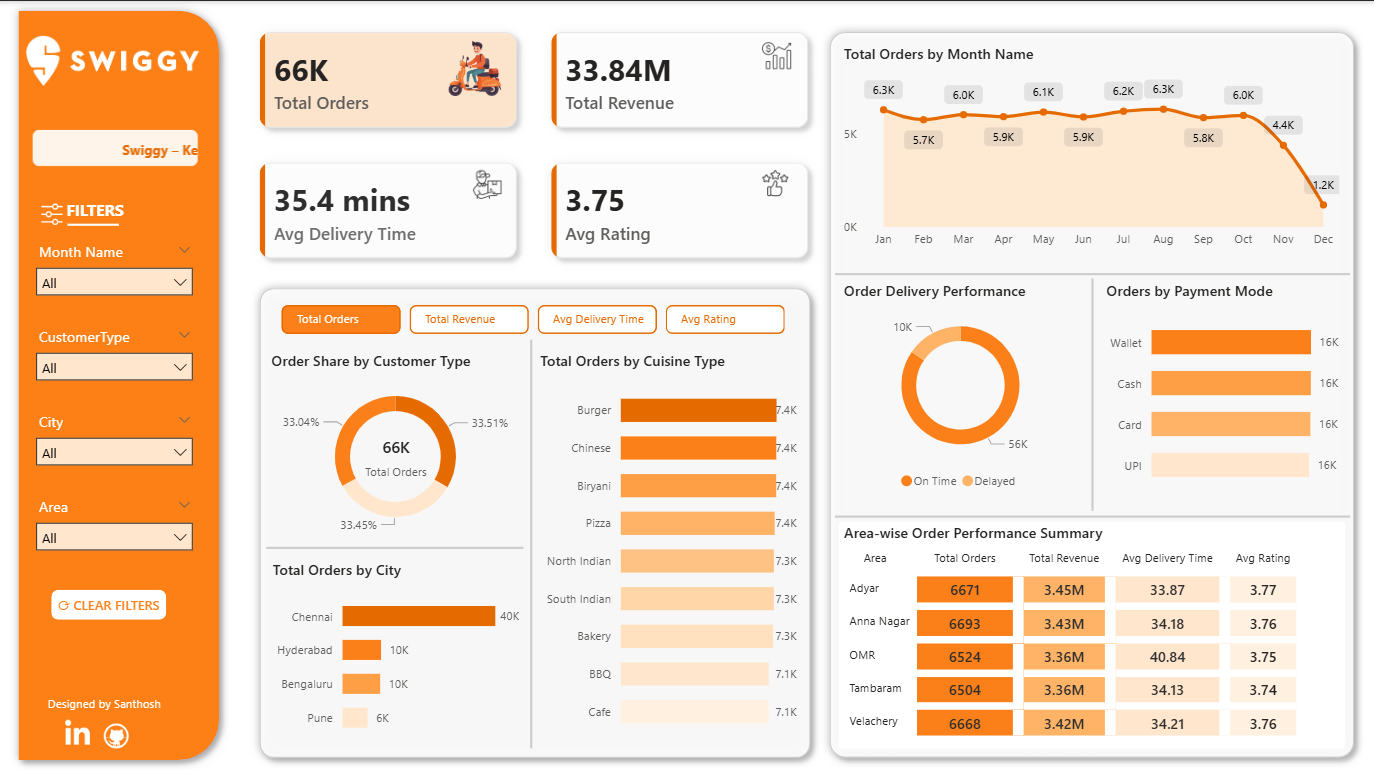

The dashboard page shown, as its layout file describes it:
{"tool":"powerbi","page":{"name":"Dashboard","canvas":[1280,720],"ordinal":0},"visuals":[{"type":"cardVisual","fields":{"Data":["measures_table.Total Orders","measures_table.Total Revenue","measures_table.Avg Delivery Time","measures_table.Avg Rating"]},"box":[212.8,0,569.8,269.8],"z":0},{"type":"shape","box":[8.1,0,204.7,715.1],"z":1000},{"type":"image","box":[24.4,22.1,160.5,67.4],"z":2000},{"type":"shape","box":[232.6,258.1,530.2,455],"z":3000},{"type":"shape","box":[762.8,19.8,505.8,693],"z":4000},{"type":"textbox","box":[39.5,638.4,143,46.5],"z":5000},{"type":"image","box":[60.5,668.6,23.3,23.3],"z":6000},{"type":"image","box":[96.5,672.1,23.3,23.3],"z":7000},{"type":"image","box":[408.1,37.2,67.4,51.2],"z":8000},{"type":"image","box":[700,37.2,45,27],"z":9000},{"type":"image","box":[698.8,155.8,45,27],"z":10000},{"type":"image","box":[430.2,157,45.3,27.9],"z":11000},{"type":"advancedSlicerVisual","fields":{"Values":["metrics.metrics"]},"box":[257,277.9,480.2,37.2],"z":12000},{"type":"donutChart","title":"Order Share by Customer Type","fields":{"Y":["measures_table.Total Orders"],"Category":["swiggy.CustomerType"]},"box":[247.7,325.6,240.7,179.1],"z":13000},{"type":"clusteredBarChart","fields":{"Y":["measures_table.Total Orders"],"Category":["swiggy.City"]},"box":[248.8,519.8,239.5,175.6],"z":14000},{"type":"shape","box":[447.7,315.1,93,380.2],"z":15000},{"type":"barChart","title":"Total Orders by Cuisine Type","fields":{"Y":["measures_table.Total Orders"],"Category":["swiggy.CuisineType"]},"box":[497.7,325.6,248.8,366.3],"z":16000},{"type":"shape","box":[247.7,493,239.5,31.4],"z":17000},{"type":"lineChart","fields":{"Y":["measures_table.Total Orders"],"Category":["swiggy.Month Name"]},"box":[780.2,39.5,470.9,198.8],"z":18000},{"type":"shape","box":[776.7,238.4,479.1,31.4],"z":19000},{"type":"donutChart","title":"Order Delivery Performance","fields":{"Y":["measures_table.Total Orders"],"Category":["swiggy.Delivery_Status"]},"box":[780.2,260.5,226.7,203.5],"z":20000},{"type":"shape","box":[969.8,258.1,93,216.3],"z":21000},{"type":"shape","box":[776.7,464,479.1,31.4],"z":22000},{"type":"clusteredBarChart","title":"Orders by Payment Mode","fields":{"Category":["swiggy.PaymentMode"],"Y":["measures_table.Total Orders"]},"box":[1024.4,260.5,226.7,204.7],"z":23000},{"type":"pivotTable","title":"Area-wise Order Performance Summary","fields":{"Values":["measures_table.Total Orders","measures_table.Total Revenue","measures_table.Avg Delivery Time","measures_table.Avg Rating"],"Rows":["swiggy.Area"]},"box":[780.2,484.9,470.9,210.5],"z":24000},{"type":"actionButton","box":[47.7,547.7,107,28],"z":25000},{"type":"slicer","title":"Quarter","fields":{"Values":["swiggy.CustomerType"]},"box":[23,297.7,166.3,79.1],"z":26000},{"type":"slicer","title":"Quarter","fields":{"Values":["swiggy.Month Name"]},"box":[23,218.6,166.3,79.1],"z":27000},{"type":"slicer","title":"City","fields":{"Values":["swiggy.City"]},"box":[23,376.7,166.3,79.1],"z":28000},{"type":"slicer","title":"Area","fields":{"Values":["swiggy.Area"]},"box":[23,455.8,166.3,79.1],"z":29000},{"type":"image","box":[38.4,188.4,19.8,19.8],"z":30000},{"type":"textbox","box":[57,179.1,88.4,41.9],"z":31000},{"type":"shape","box":[62.8,202.3,47.7,11.6],"z":32000},{"type":"htmlContent443BE3AD55E043BF878BED274D3A6855","fields":{"content":["measures_table.Insights_Ticker"]},"box":[25.6,115.1,164,55.8],"z":33000},{"type":"card","fields":{"Values":["measures_table.Total Orders"]},"box":[318.6,391.9,100,64],"z":34000}]}

Visuals, with their boxes in screenshot pixels (x1, y1, x2, y2), scaled from the page's 1280x720 canvas onto the 1374x774 screenshot:
cardVisual - measures_table.Total Orders x measures_table.Total Revenue: (228, 0, 840, 290)
shape: (9, 0, 228, 769)
image: (26, 24, 198, 96)
shape: (250, 277, 819, 767)
shape: (819, 21, 1362, 766)
textbox: (42, 686, 196, 736)
image: (65, 719, 90, 744)
image: (104, 723, 129, 748)
image: (438, 40, 510, 95)
image: (751, 40, 800, 69)
image: (750, 167, 798, 197)
image: (462, 169, 510, 199)
advancedSlicerVisual - metrics.metrics: (276, 299, 791, 339)
"Order Share by Customer Type" donutChart: (266, 350, 524, 543)
clusteredBarChart - measures_table.Total Orders x swiggy.City: (267, 559, 524, 748)
shape: (481, 339, 580, 747)
"Total Orders by Cuisine Type" barChart: (534, 350, 801, 744)
shape: (266, 530, 523, 564)
lineChart - measures_table.Total Orders x swiggy.Month Name: (837, 42, 1343, 256)
shape: (834, 256, 1348, 290)
"Order Delivery Performance" donutChart: (837, 280, 1081, 499)
shape: (1041, 277, 1141, 510)
shape: (834, 499, 1348, 533)
"Orders by Payment Mode" clusteredBarChart: (1100, 280, 1343, 500)
"Area-wise Order Performance Summary" pivotTable: (837, 521, 1343, 748)
actionButton: (51, 589, 166, 619)
"Quarter" slicer: (25, 320, 203, 405)
"Quarter" slicer: (25, 235, 203, 320)
"City" slicer: (25, 405, 203, 490)
"Area" slicer: (25, 490, 203, 575)
image: (41, 203, 62, 224)
textbox: (61, 193, 156, 238)
shape: (67, 217, 119, 230)
htmlContent443BE3AD55E043BF878BED274D3A6855 - measures_table.Insights_Ticker: (27, 124, 204, 184)
card - measures_table.Total Orders: (342, 421, 449, 490)
